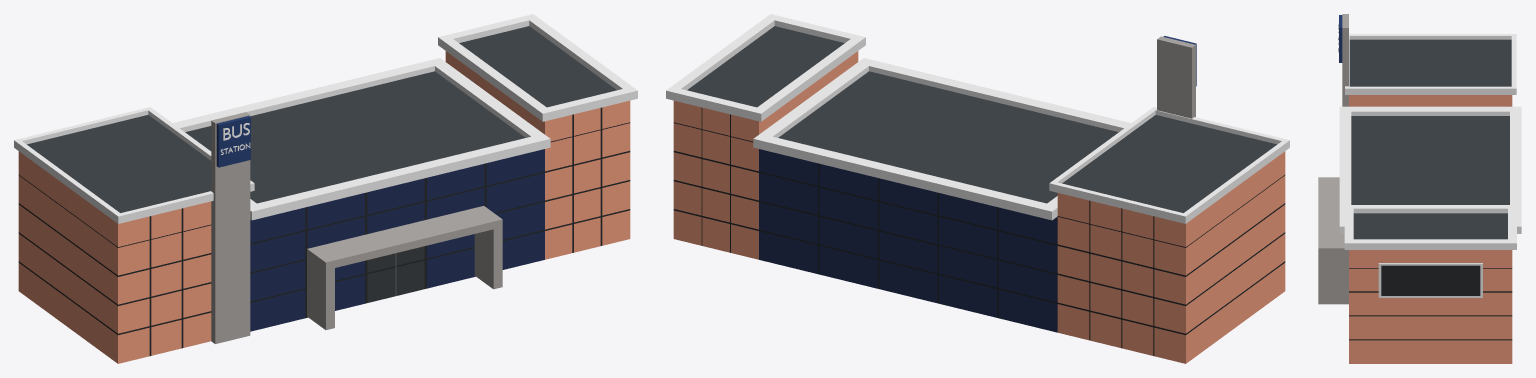
File: BusStation_1.fbx
3 renders of one model, left to right at view 1: azimuth 30°, elevation 25°; view 2: azimuth 150°, elevation 25°; view 3: azimuth 270°, elevation 25°, orthographic. The views are drawn at different scales.
Visible parts, largest first — view 1: BusStation_1; view 2: BusStation_1; view 3: BusStation_1.
Boxes of the visible parts, x1,y1,x2,y2 form: BusStation_1: (14,14,637,363); BusStation_1: (666,14,1289,363); BusStation_1: (1318,14,1521,363).
Size of the model in its own units: 2578 by 1047 by 1062.
